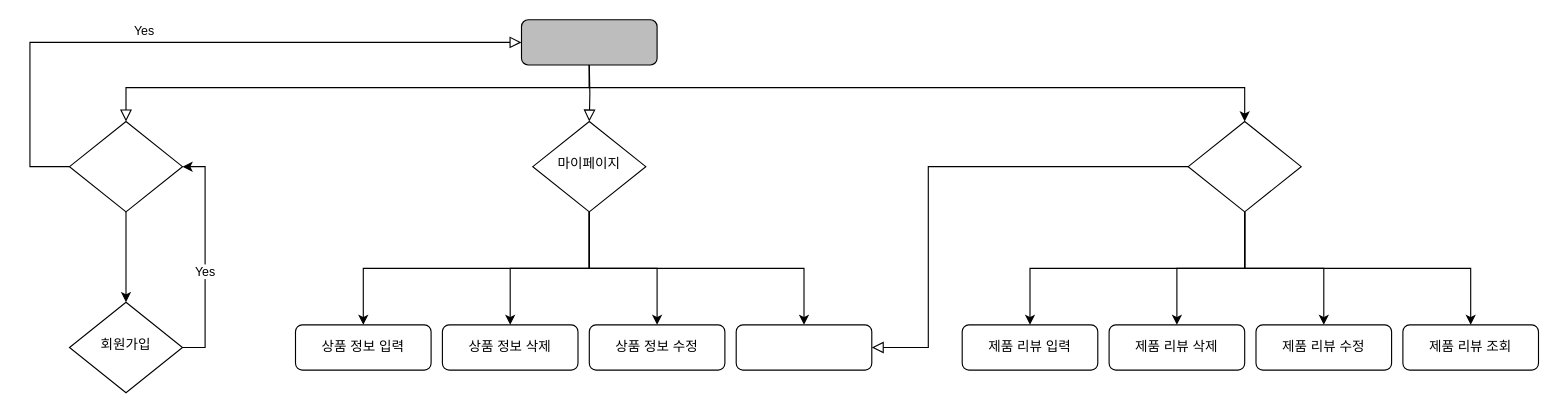
Image size: 1558x412. Some labels were removed from this diagram. Here are the shapes that lost their labels. From the top down, the centre of each, then its label:
At point 588,42: "메인 페이지".
At point 125,166: "로그인".
At point 1244,166: "상세페이지".
At point 803,347: "상품 정보 조회".
